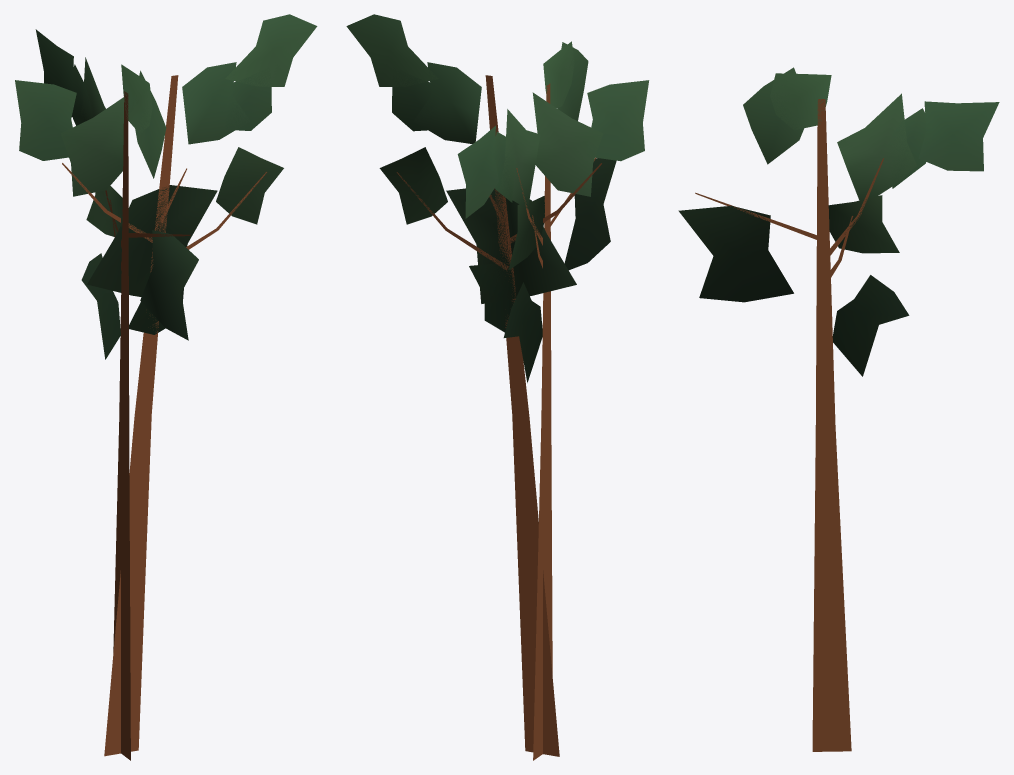
The model's file is pine-a.card.glb.
The picture shows the model from 3 angles, left to right: view 1: azimuth 30°, elevation 25°; view 2: azimuth 150°, elevation 25°; view 3: azimuth 270°, elevation 25°; orthographic projection.
Bounding box in the file's own units: 5.69 × 12.6 × 5.33.
